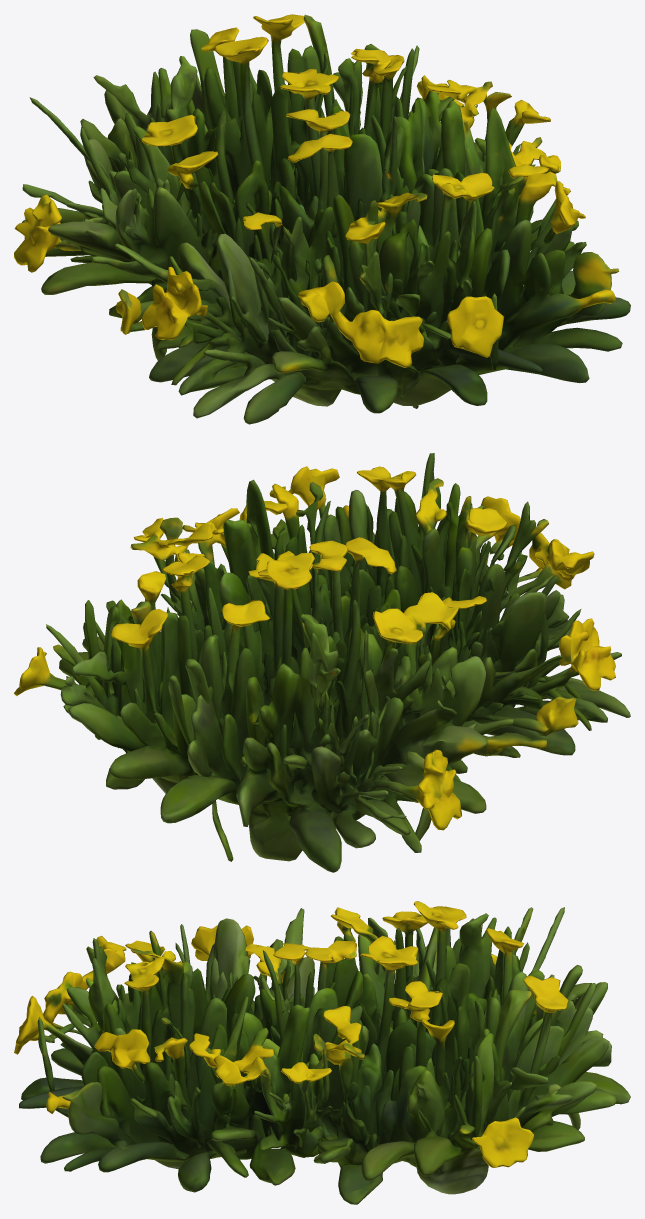
The model's file is nature-flower-wild-yellow.glb.
3 views of the same model, one above another, from view 1: azimuth 30°, elevation 25°; view 2: azimuth 150°, elevation 25°; view 3: azimuth 270°, elevation 25° (orthographic). The views are drawn at different scales.
Parts seen in each view (by area): view 1: tripo_node_0a0e0153-b692-4049-b2bf-51a664694b9b; view 2: tripo_node_0a0e0153-b692-4049-b2bf-51a664694b9b; view 3: tripo_node_0a0e0153-b692-4049-b2bf-51a664694b9b.
Boxes of the visible parts, bbox=[...] form: tripo_node_0a0e0153-b692-4049-b2bf-51a664694b9b: bbox=[14, 14, 630, 424]; tripo_node_0a0e0153-b692-4049-b2bf-51a664694b9b: bbox=[14, 453, 630, 872]; tripo_node_0a0e0153-b692-4049-b2bf-51a664694b9b: bbox=[14, 901, 630, 1204].
Bounding box in the file's own units: 0.8556 × 0.5 × 1.07.
Materials: 1 (1 with a texture image).
